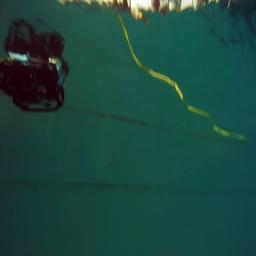Side: (0, 59, 68, 112)
